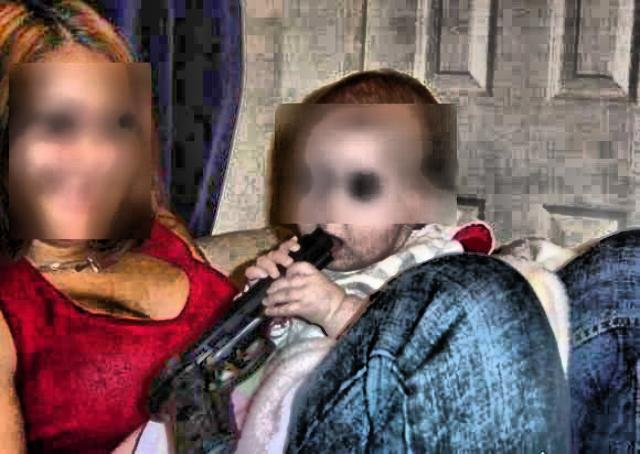pistol: (137, 227, 336, 454)
